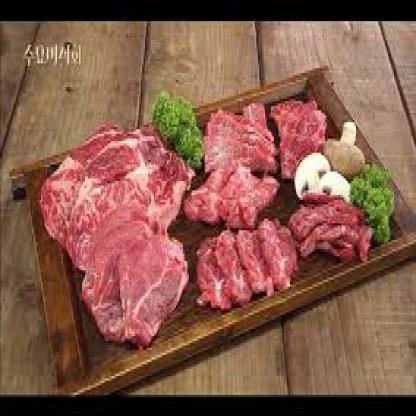beef: (45, 139, 186, 329), (197, 113, 272, 230), (196, 233, 299, 298), (292, 200, 368, 263), (274, 99, 322, 174)
